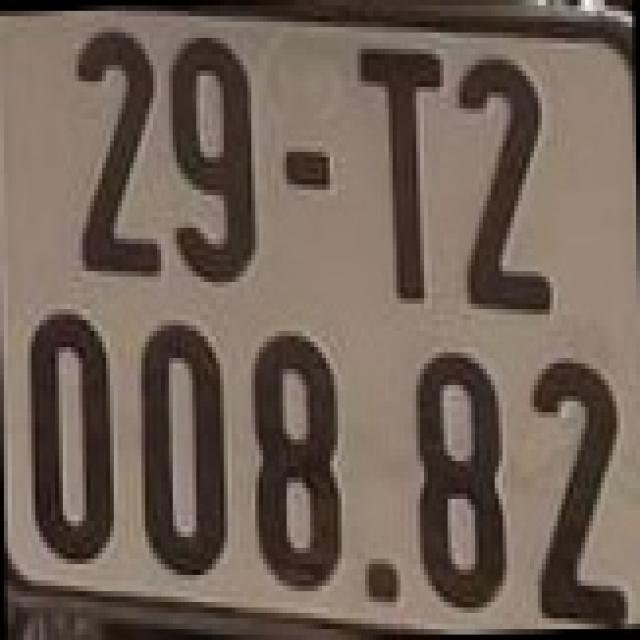0: (134, 309, 235, 580), (23, 298, 122, 570)
2: (526, 347, 636, 624), (456, 43, 562, 320), (67, 22, 169, 282)
8: (248, 314, 354, 596), (408, 336, 514, 618)
9: (165, 27, 267, 288)
T: (349, 38, 452, 309)
